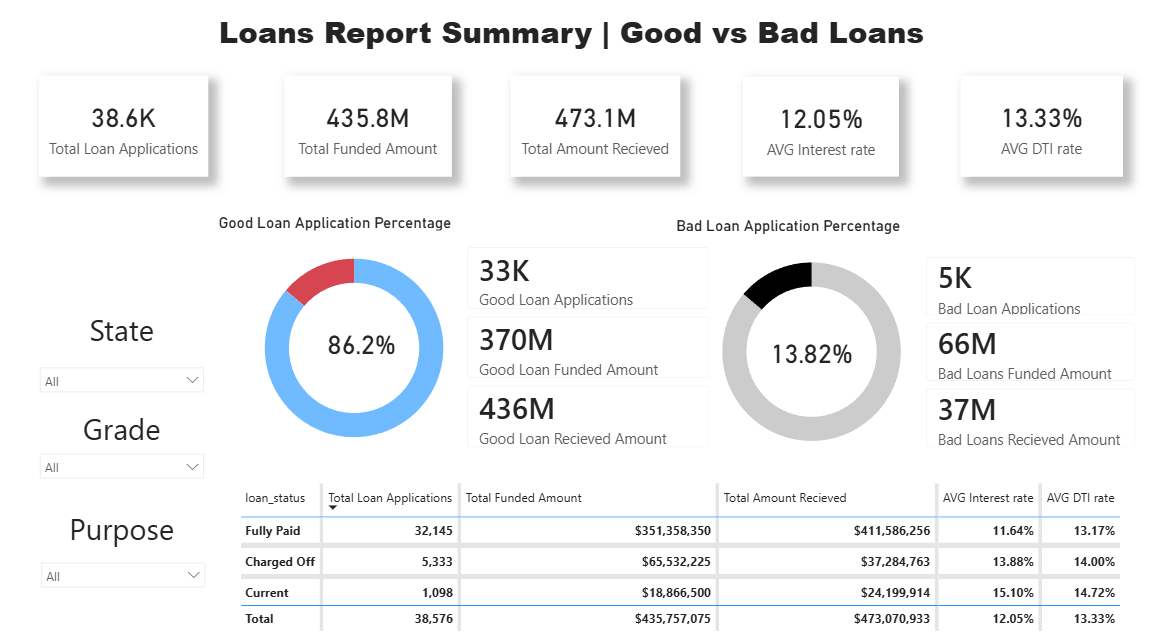

The dashboard page shown, as its layout file describes it:
{"tool":"powerbi","page":{"name":"Page 1","canvas":[1280,720],"ordinal":0},"visuals":[{"type":"textbox","box":[237.4,15.1,841.2,76.8],"z":0},{"type":"card","fields":{"Values":["Date Table.Total Loan Applications"]},"box":[45.3,90.6,185.2,111.1],"z":1000},{"type":"card","fields":{"Values":["Date Table.Funded Amount"]},"box":[314.2,90.6,183.9,111.1],"z":2000},{"type":"card","fields":{"Values":["Date Table.Total Amount Recieved"]},"box":[562.6,90.6,186.6,111.1],"z":3000},{"type":"card","fields":{"Values":["Date Table.AVG Interest rate"]},"box":[817.8,91.9,171.5,109.8],"z":4000},{"type":"card","fields":{"Values":["Date Table.AVG DTI rate"]},"box":[1056.6,90.6,178.4,111.1],"z":5000},{"type":"donutChart","title":"Good Loan Application Percentage","fields":{"Category":["financial_loan.Good and Bad Loans"],"Y":["Date Table.Total Loan Applications"]},"box":[237.4,241.5,307.4,275.8],"z":6000},{"type":"card","fields":{"Values":["Date Table.Good Loan Per"]},"box":[329.3,326.6,140,115.3],"z":7000},{"type":"donutChart","title":"Bad Loan Application Percentage","fields":{"Category":["financial_loan.Good and Bad Loans"],"Y":["Date Table.Total Loan Applications"]},"box":[739.6,245.6,307.4,275.8],"z":8000},{"type":"card","fields":{"Values":["Date Table.Bad Loan Percentage"]},"box":[817.8,337.6,150.9,113.9],"z":9000},{"type":"cardVisual","fields":{"Data":["Date Table.Good Loan Applications","Date Table.Good Loan Funded Amount","Date Table.Good Loan Recieved Amount"]},"box":[498.1,262.1,300.5,255.2],"z":10000},{"type":"cardVisual","fields":{"Data":["Date Table.Bad Loan Applications","Date Table.Bad Loans Funded Amount","Date Table.Bad Loans Recieved Amount"]},"box":[1001.7,273.1,264.8,244.3],"z":11000},{"type":"tableEx","fields":{"Values":["financial_loan.loan_status","Date Table.Total Loan Applications","Date Table.Total Funded Amount","Date Table.Total Amount Recieved","Date Table.AVG Interest rate","Date Table.AVG DTI rate"]},"box":[252.5,521.4,993.5,186.6],"z":12000},{"type":"slicer","fields":{"Values":["financial_loan.address_state"]},"box":[35.7,400.7,200.3,50.8],"z":13000},{"type":"slicer","fields":{"Values":["financial_loan.grade"]},"box":[35.7,495.4,200.3,52.1],"z":13001},{"type":"textbox","box":[35.7,343.1,200.3,57.6],"z":13002},{"type":"textbox","box":[63.1,451.5,145.5,53.5],"z":13003},{"type":"slicer","fields":{"Values":["financial_loan.purpose"]},"box":[37,614.8,200.3,50.8],"z":13004},{"type":"textbox","box":[35.7,561.2,200.3,53.5],"z":13005}]}

Visuals, with their boxes in screenshot pixels (x1, y1, x2, y2), scaled from the page's 1280x720 canvas onto the 1157x643 screenshot:
textbox: box(215, 13, 975, 82)
card - Date Table.Total Loan Applications: box(41, 81, 208, 180)
card - Date Table.Funded Amount: box(284, 81, 450, 180)
card - Date Table.Total Amount Recieved: box(509, 81, 677, 180)
card - Date Table.AVG Interest rate: box(739, 82, 894, 180)
card - Date Table.AVG DTI rate: box(955, 81, 1116, 180)
"Good Loan Application Percentage" donutChart: box(215, 216, 492, 462)
card - Date Table.Good Loan Per: box(298, 292, 424, 395)
"Bad Loan Application Percentage" donutChart: box(669, 219, 946, 466)
card - Date Table.Bad Loan Percentage: box(739, 301, 876, 403)
cardVisual - Date Table.Good Loan Applications x Date Table.Good Loan Funded Amount: box(450, 234, 722, 462)
cardVisual - Date Table.Bad Loan Applications x Date Table.Bad Loans Funded Amount: box(905, 244, 1145, 462)
tableEx - financial_loan.loan_status x Date Table.Total Loan Applications: box(228, 466, 1126, 632)
slicer - financial_loan.address_state: box(32, 358, 213, 403)
slicer - financial_loan.grade: box(32, 442, 213, 489)
textbox: box(32, 306, 213, 358)
textbox: box(57, 403, 189, 451)
slicer - financial_loan.purpose: box(33, 549, 214, 594)
textbox: box(32, 501, 213, 549)
